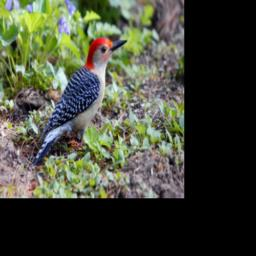Woodpecker: (31, 36, 128, 166)
